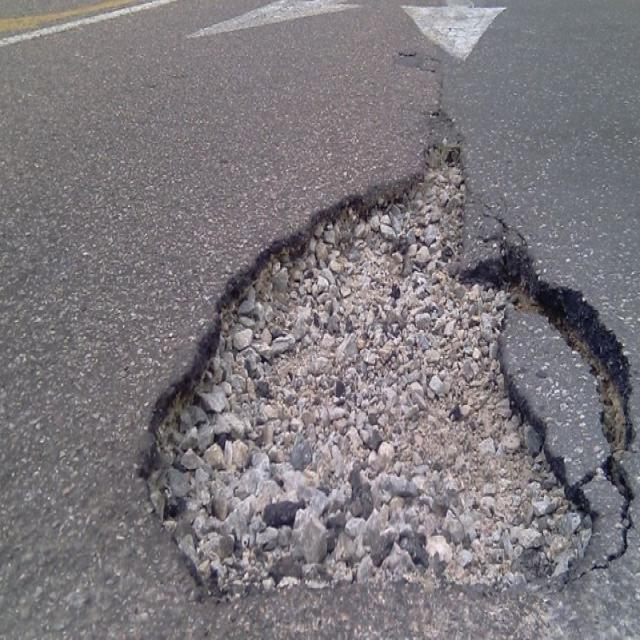Pothole: (136, 139, 638, 599)
